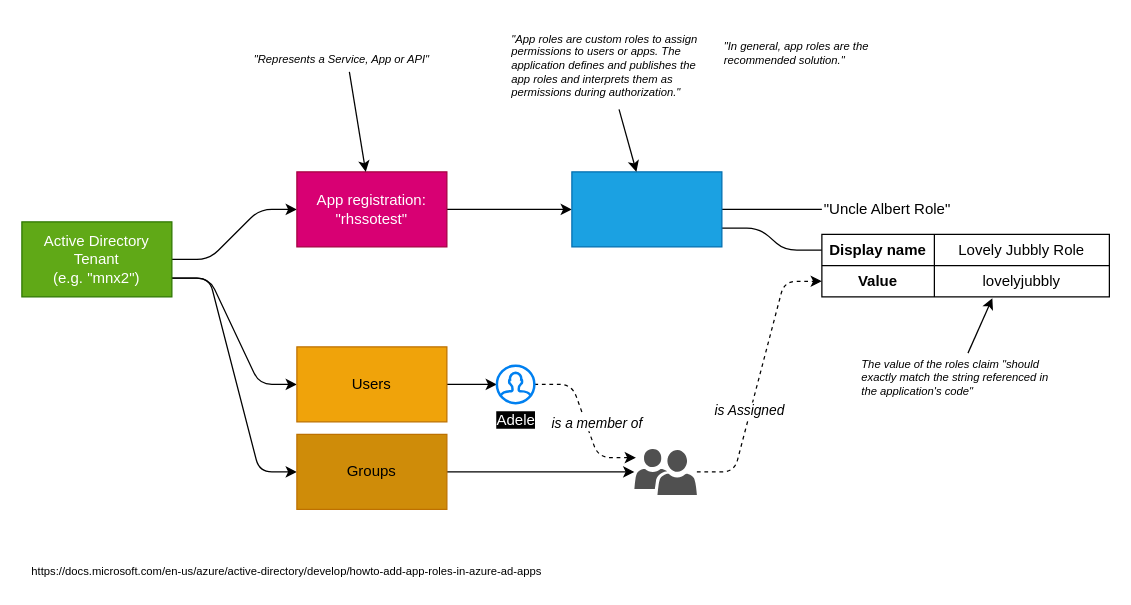
This 1131x605 diagram has some shape labels left out. The centre of each missing label's shape, as x and y in pixels:
App roles: point (646, 209)
My App Test: point (665, 471)
